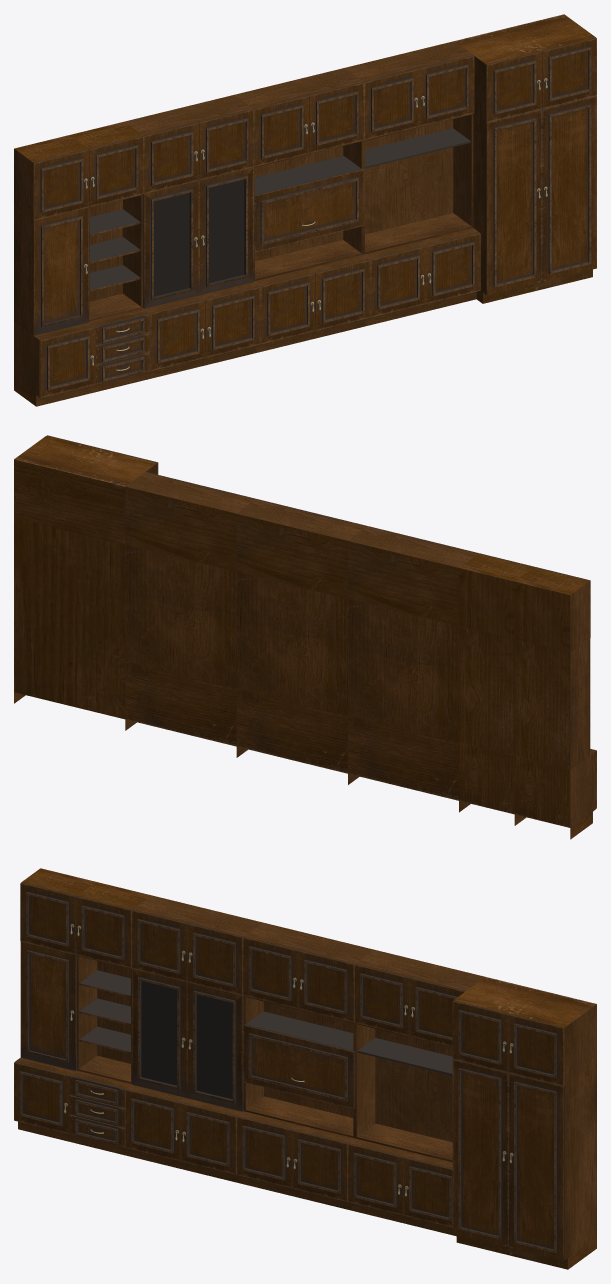
File: kitchen_cabinet_library_11_mb.glb
3 renders of one model, top to bottom at view 1: azimuth 30°, elevation 25°; view 2: azimuth 150°, elevation 25°; view 3: azimuth 330°, elevation 25°, orthographic.
Visible parts, largest first — view 1: 02_02_0, 01_01_0, Glass; view 2: 01_01_0, 02_02_0; view 3: 02_02_0, 01_01_0, Glass.
Part boxes in pixels (box(x1,y1,x2,y2)): 02_02_0: box(33, 38, 596, 397); 01_01_0: box(14, 14, 595, 406); Glass: box(154, 179, 244, 296); 01_01_0: box(14, 436, 595, 839); 02_02_0: box(47, 435, 596, 808); 02_02_0: box(14, 882, 564, 1260); 01_01_0: box(15, 868, 596, 1269); Glass: box(141, 981, 232, 1099).
Bounding box in the file's own units: 500 × 210 × 53.89.
Materials: 3 (2 with a texture image).
